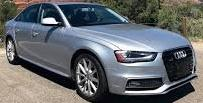Cars: (6, 4, 196, 101)
